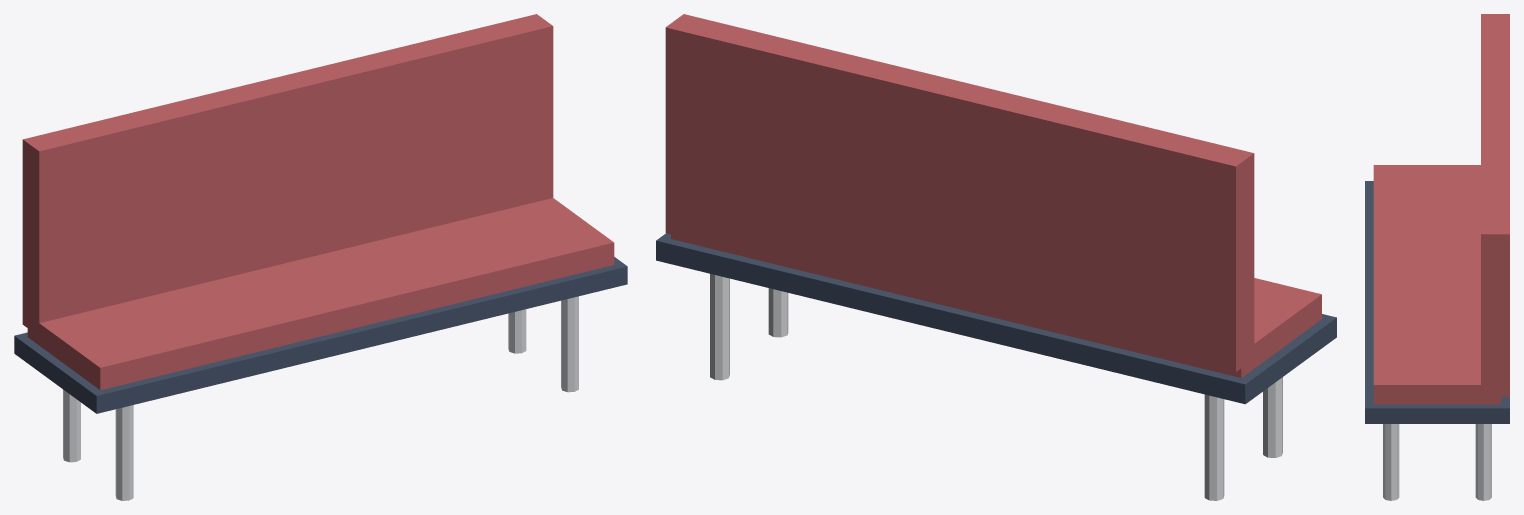
File: wait_bench.glb
The picture shows the model from 3 angles, left to right: view 1: azimuth 30°, elevation 25°; view 2: azimuth 150°, elevation 25°; view 3: azimuth 270°, elevation 25°; orthographic projection. The views are drawn at different scales.
Parts seen in each view (by area): view 1: WaitBench; view 2: WaitBench; view 3: WaitBench.
Part boxes in pixels (x1=…): WaitBench: x1=14, y1=14, x2=627, y2=500; WaitBench: x1=656, y1=14, x2=1336, y2=500; WaitBench: x1=1365, y1=14, x2=1509, y2=500.
Size of the model in its own units: 1.86 by 1.06 by 0.5.
